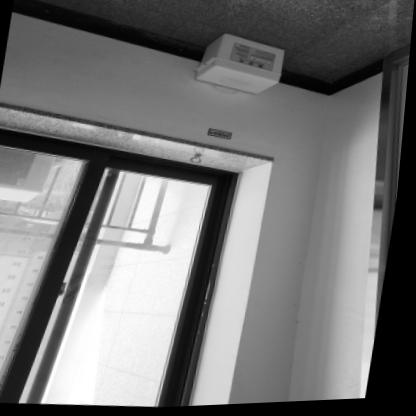DDL: (193, 31, 290, 100)
